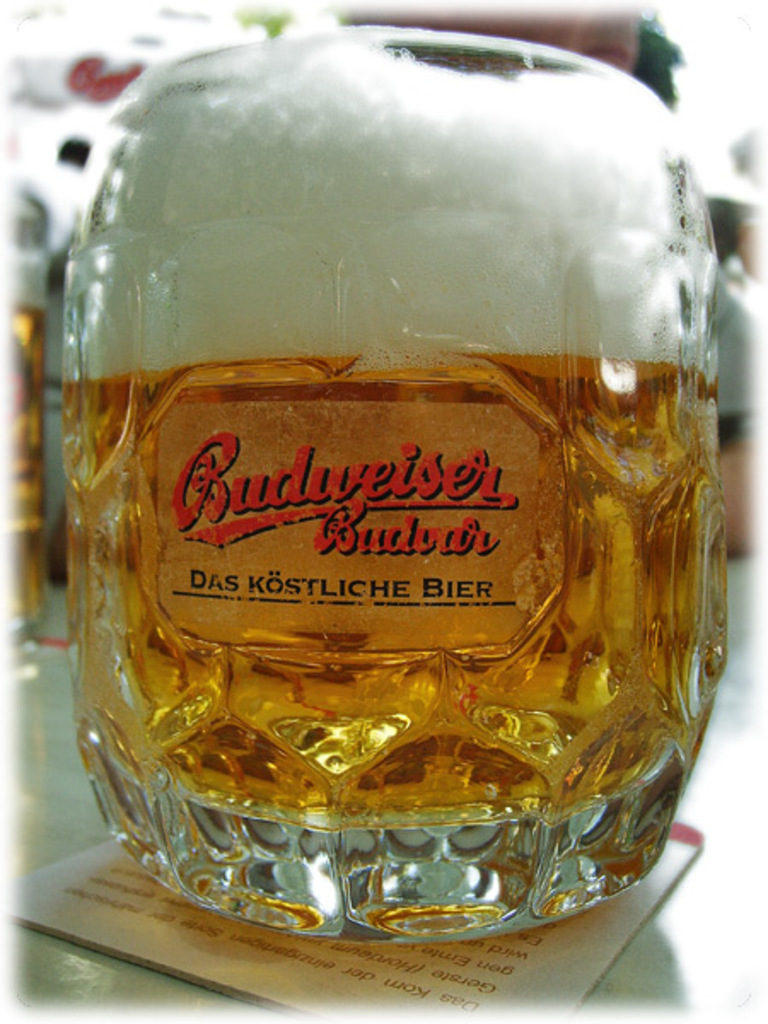Beer: (56, 30, 718, 817)
